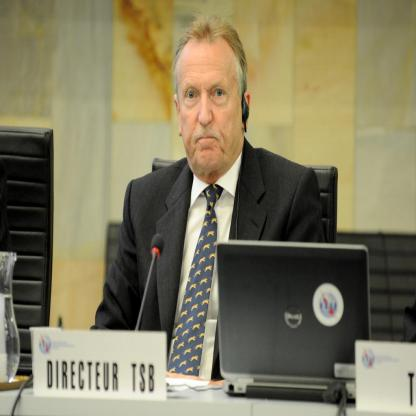board: (215, 239, 368, 405)
